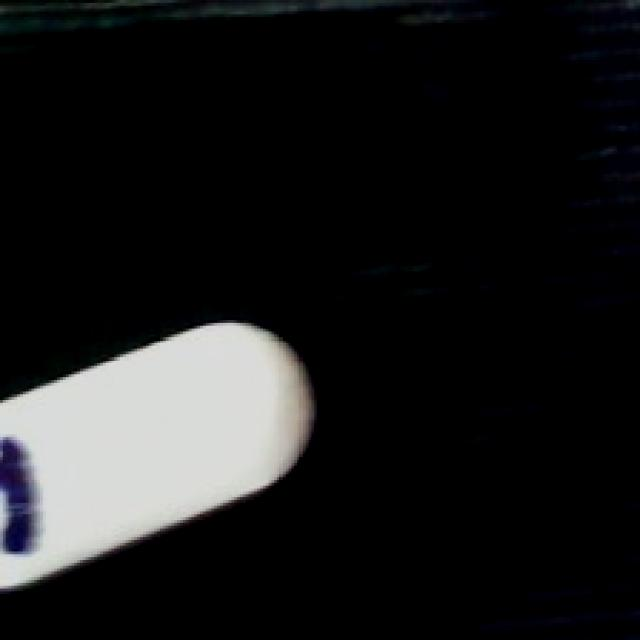defected: (0, 308, 326, 598)
